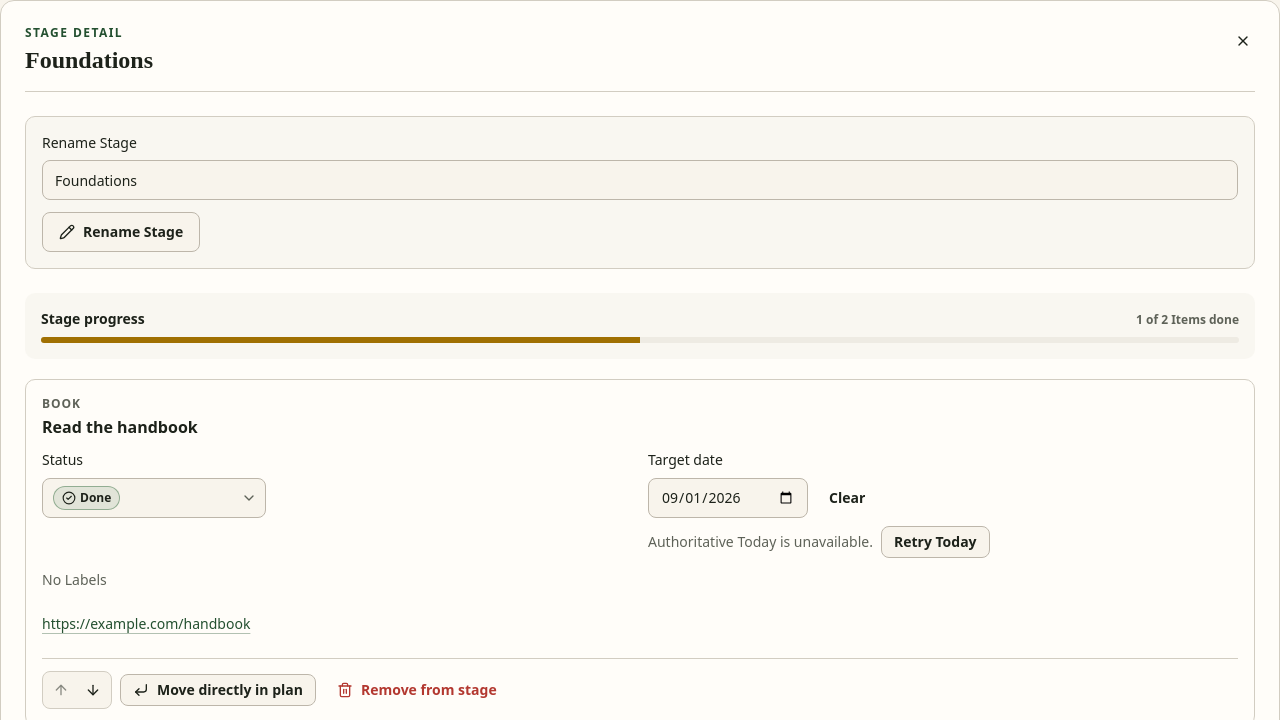
Test: Stage detail panel › preserves a proposed name when renaming fails
Replace the text in the field labelled "Rename Stage" with "Core ideas": (640, 180) x1=42 y1=160 x2=1238 y2=200
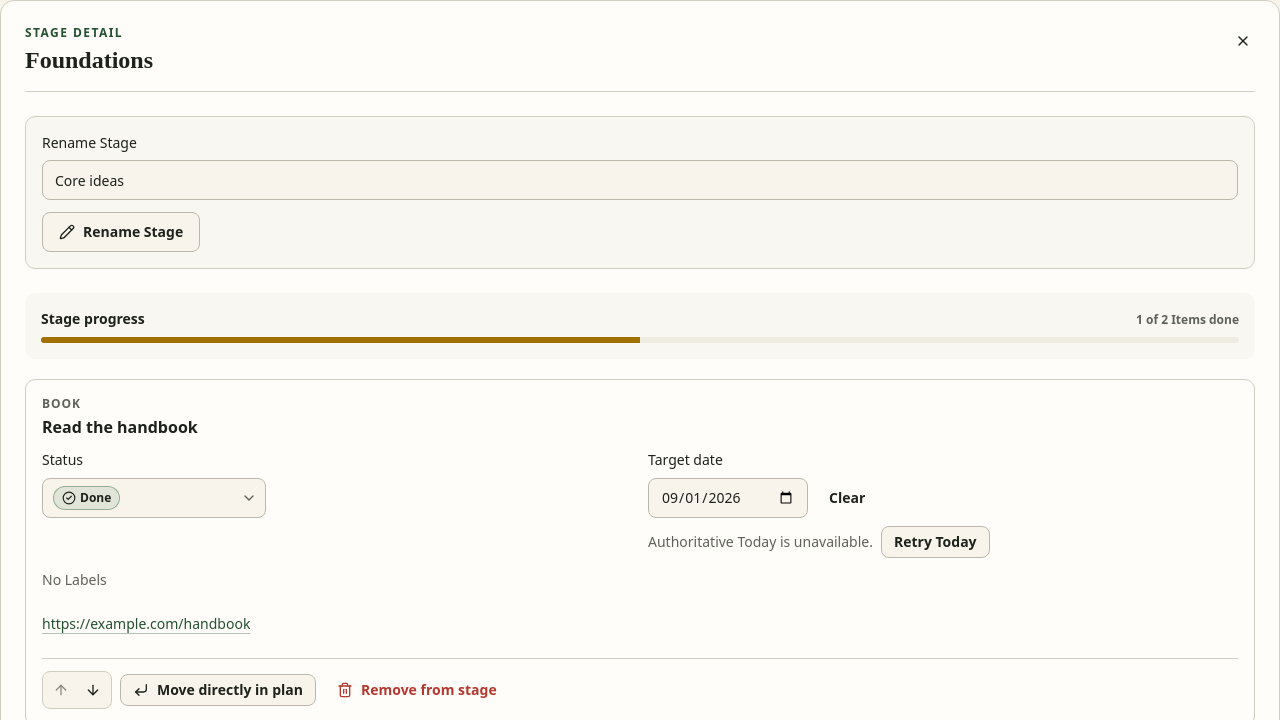
Click the button "Rename Stage": click(121, 232) x1=42 y1=212 x2=200 y2=252
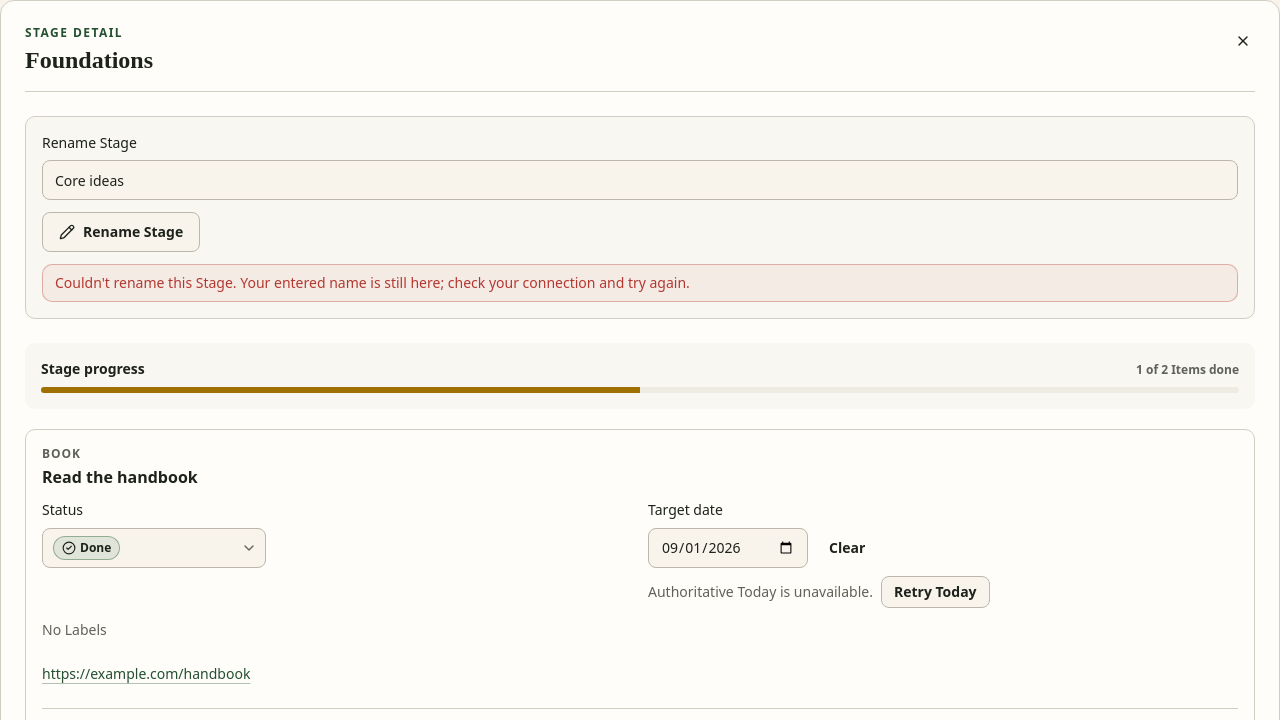
Expected: the message shows "Couldn't rename this Stage. Your entered name is still here", x1=55 y1=273 x2=690 y2=292
